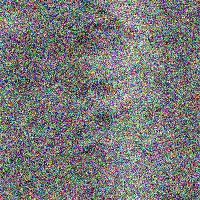rolled-in_scale: (69, 72, 114, 161), (67, 1, 119, 45)
